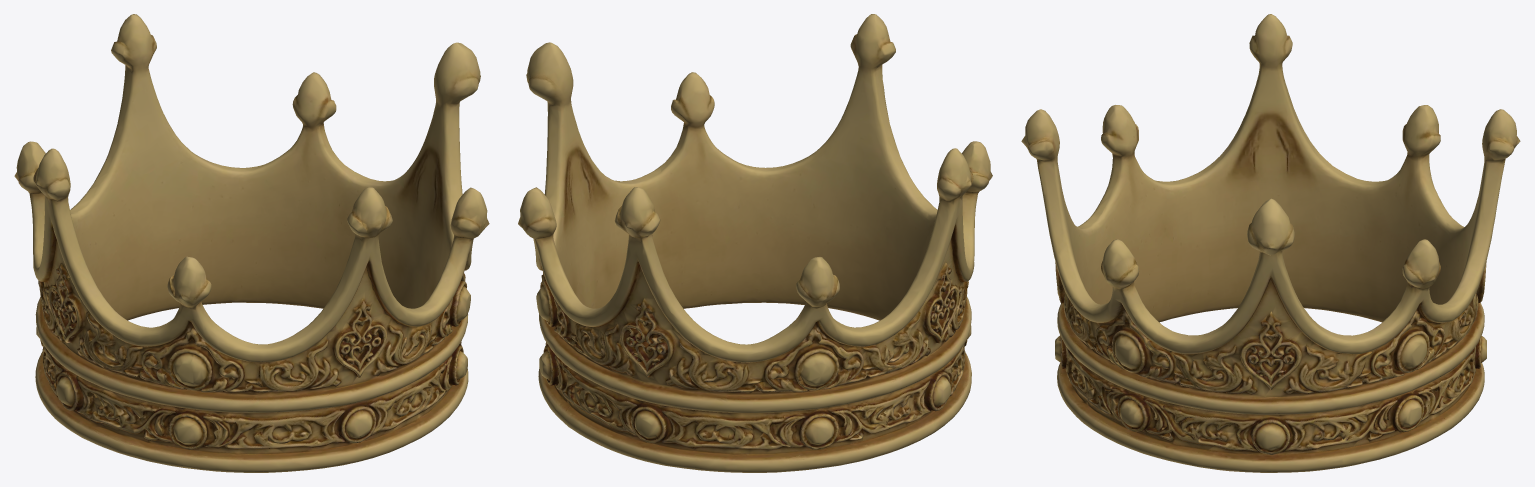
File: crown.glb
3 views of the same model, side by side, from view 1: azimuth 30°, elevation 25°; view 2: azimuth 150°, elevation 25°; view 3: azimuth 270°, elevation 25° (orthographic). The views are drawn at different scales.
Parts seen in each view (by area): view 1: tripo_node_9fc3133d-ea6e-45dd-8d81-e9d96052d2d7; view 2: tripo_node_9fc3133d-ea6e-45dd-8d81-e9d96052d2d7; view 3: tripo_node_9fc3133d-ea6e-45dd-8d81-e9d96052d2d7.
Boxes of the visible parts, box(x1,y1,x2,y2) form: tripo_node_9fc3133d-ea6e-45dd-8d81-e9d96052d2d7: box(14, 14, 489, 472); tripo_node_9fc3133d-ea6e-45dd-8d81-e9d96052d2d7: box(518, 14, 992, 472); tripo_node_9fc3133d-ea6e-45dd-8d81-e9d96052d2d7: box(1021, 14, 1520, 472).
Bounding box in the file's own units: 1 × 0.634 × 0.9979.
Materials: 1 (1 with a texture image).
